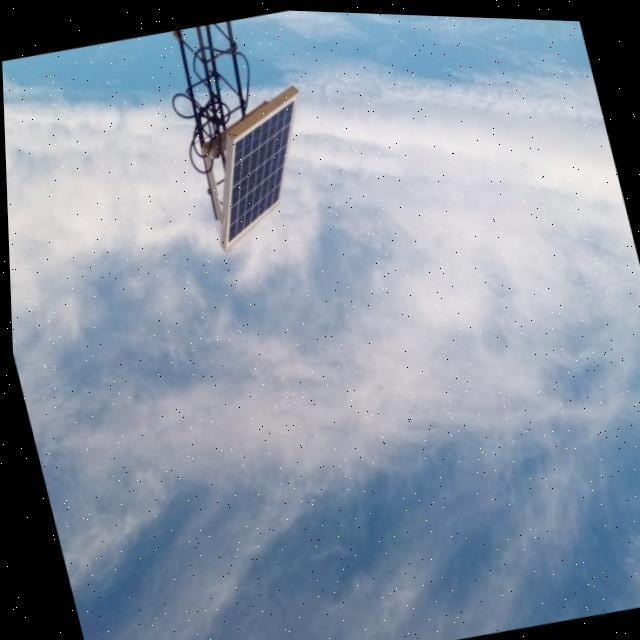Normal Solar Panel: (189, 86, 332, 252)
